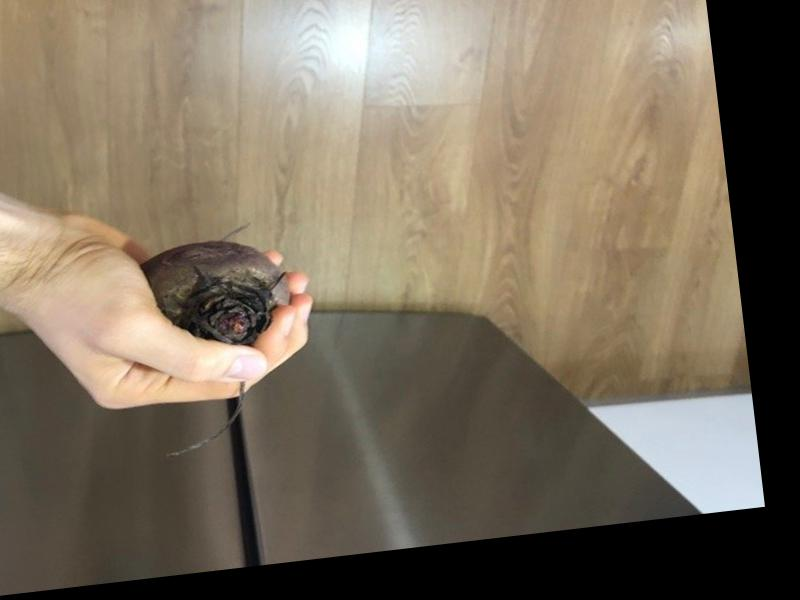Beet: (137, 232, 308, 458)
